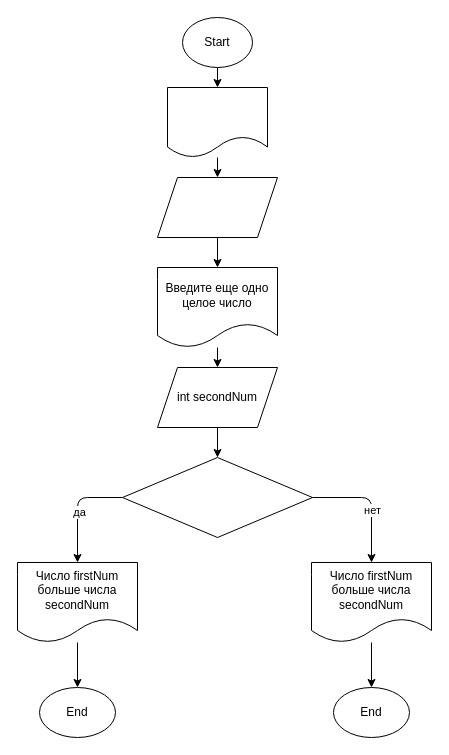
The diagram is 449 pixels wide and 755 high, and some of its shapes have lost their labels. Each missing label, with the box of its shape:
firstNum > secondNum: (122, 456, 312, 538)
Int firstNum: (156, 176, 278, 238)
Введите целое число: (166, 86, 268, 158)
